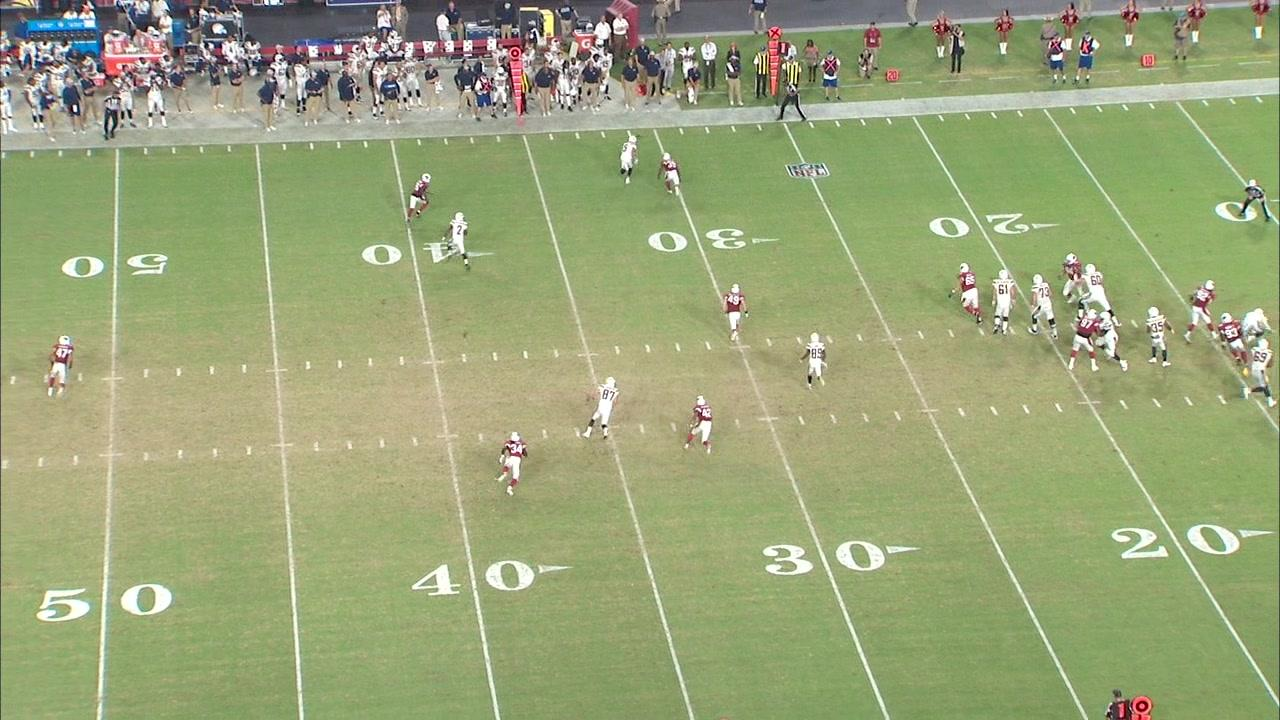ball: (450, 219, 471, 242)
marker: (506, 48, 526, 121), (767, 27, 782, 102)
number: (34, 580, 176, 622), (758, 536, 888, 579), (410, 558, 538, 600), (1110, 521, 1241, 561), (59, 248, 172, 280), (925, 211, 1032, 240), (644, 225, 748, 254), (360, 240, 461, 267)
